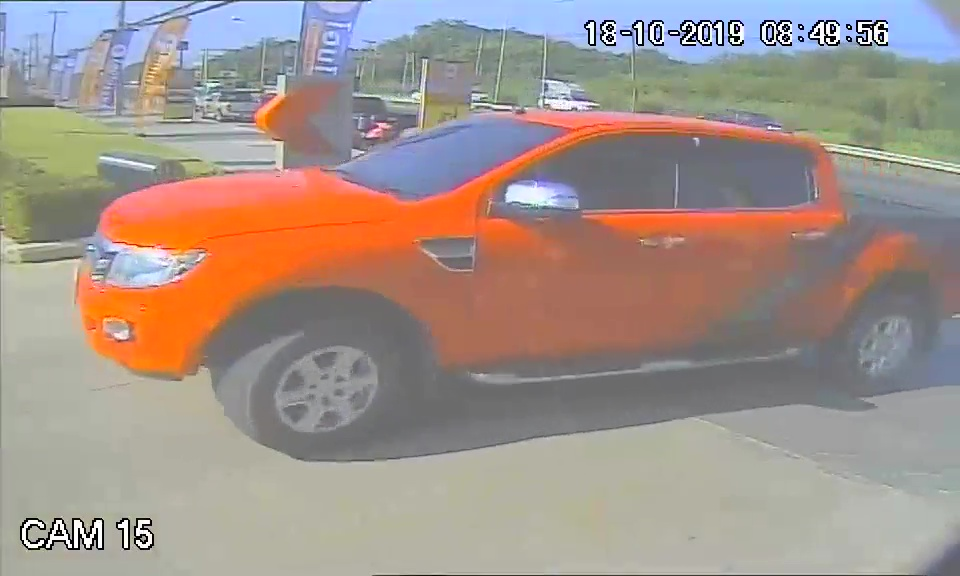pickup: (70, 107, 950, 453)
